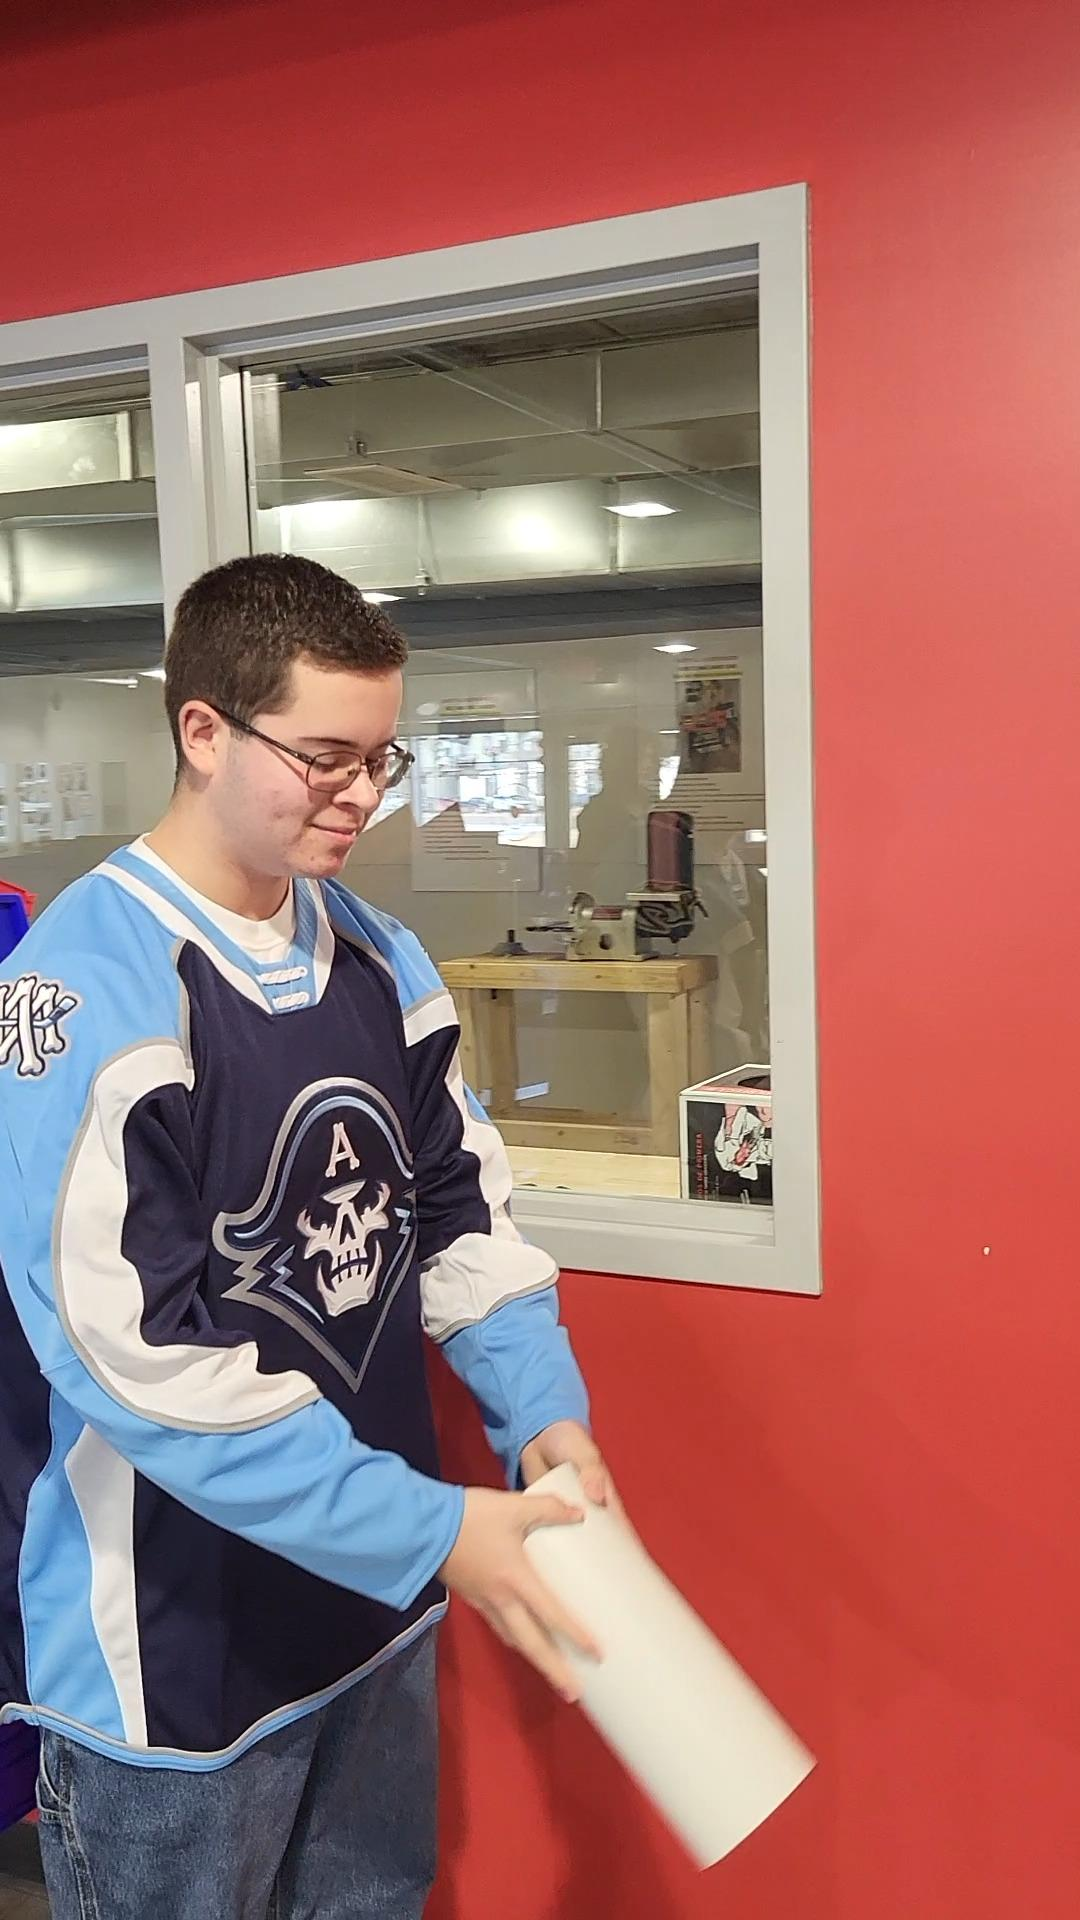coral: (473, 1461, 816, 1859)
